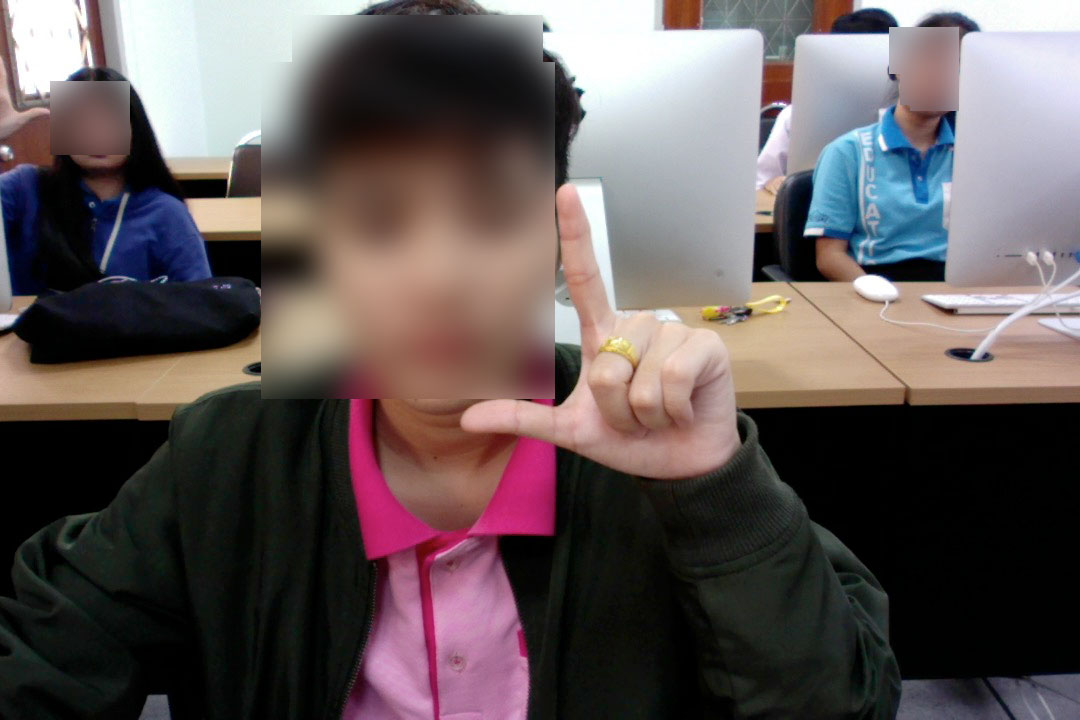lor: (431, 183, 784, 505)
